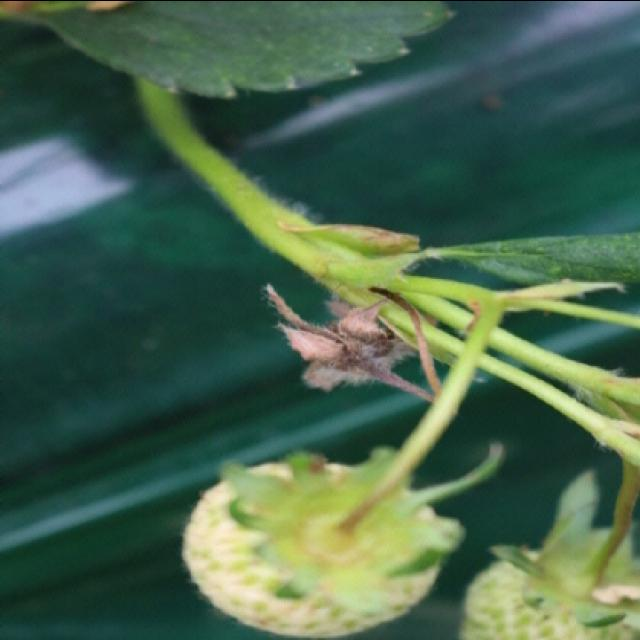Gray Mold: (264, 282, 440, 403)
